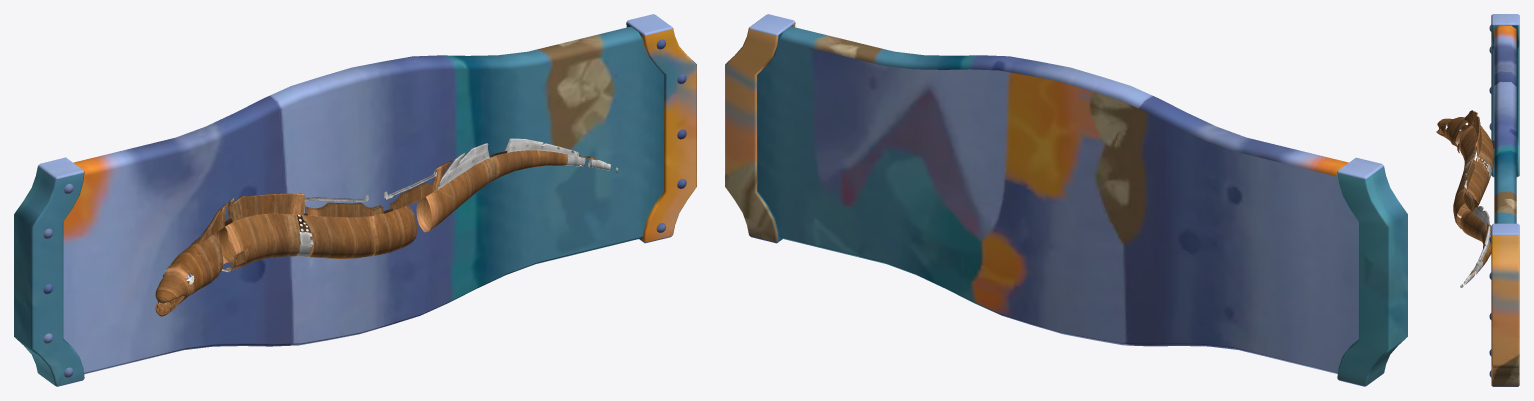
The picture shows the model from 3 angles, left to right: view 1: azimuth 30°, elevation 25°; view 2: azimuth 150°, elevation 25°; view 3: azimuth 270°, elevation 25°; orthographic projection. The views are drawn at different scales.
Parts seen in each view (by area): view 1: SM_Trophy_Plaque_BeltFish_01_LOD0; view 2: SM_Trophy_Plaque_BeltFish_01_LOD0; view 3: SM_Trophy_Plaque_BeltFish_01_LOD0.
Boxes of the visible parts, x1,y1,x2,y2 form: SM_Trophy_Plaque_BeltFish_01_LOD0: (14,14,696,386); SM_Trophy_Plaque_BeltFish_01_LOD0: (725,14,1407,386); SM_Trophy_Plaque_BeltFish_01_LOD0: (1436,14,1519,386).
Size of the model in its own units: 1.48 by 0.5529 by 0.2191.
2 materials, 2 textured.
